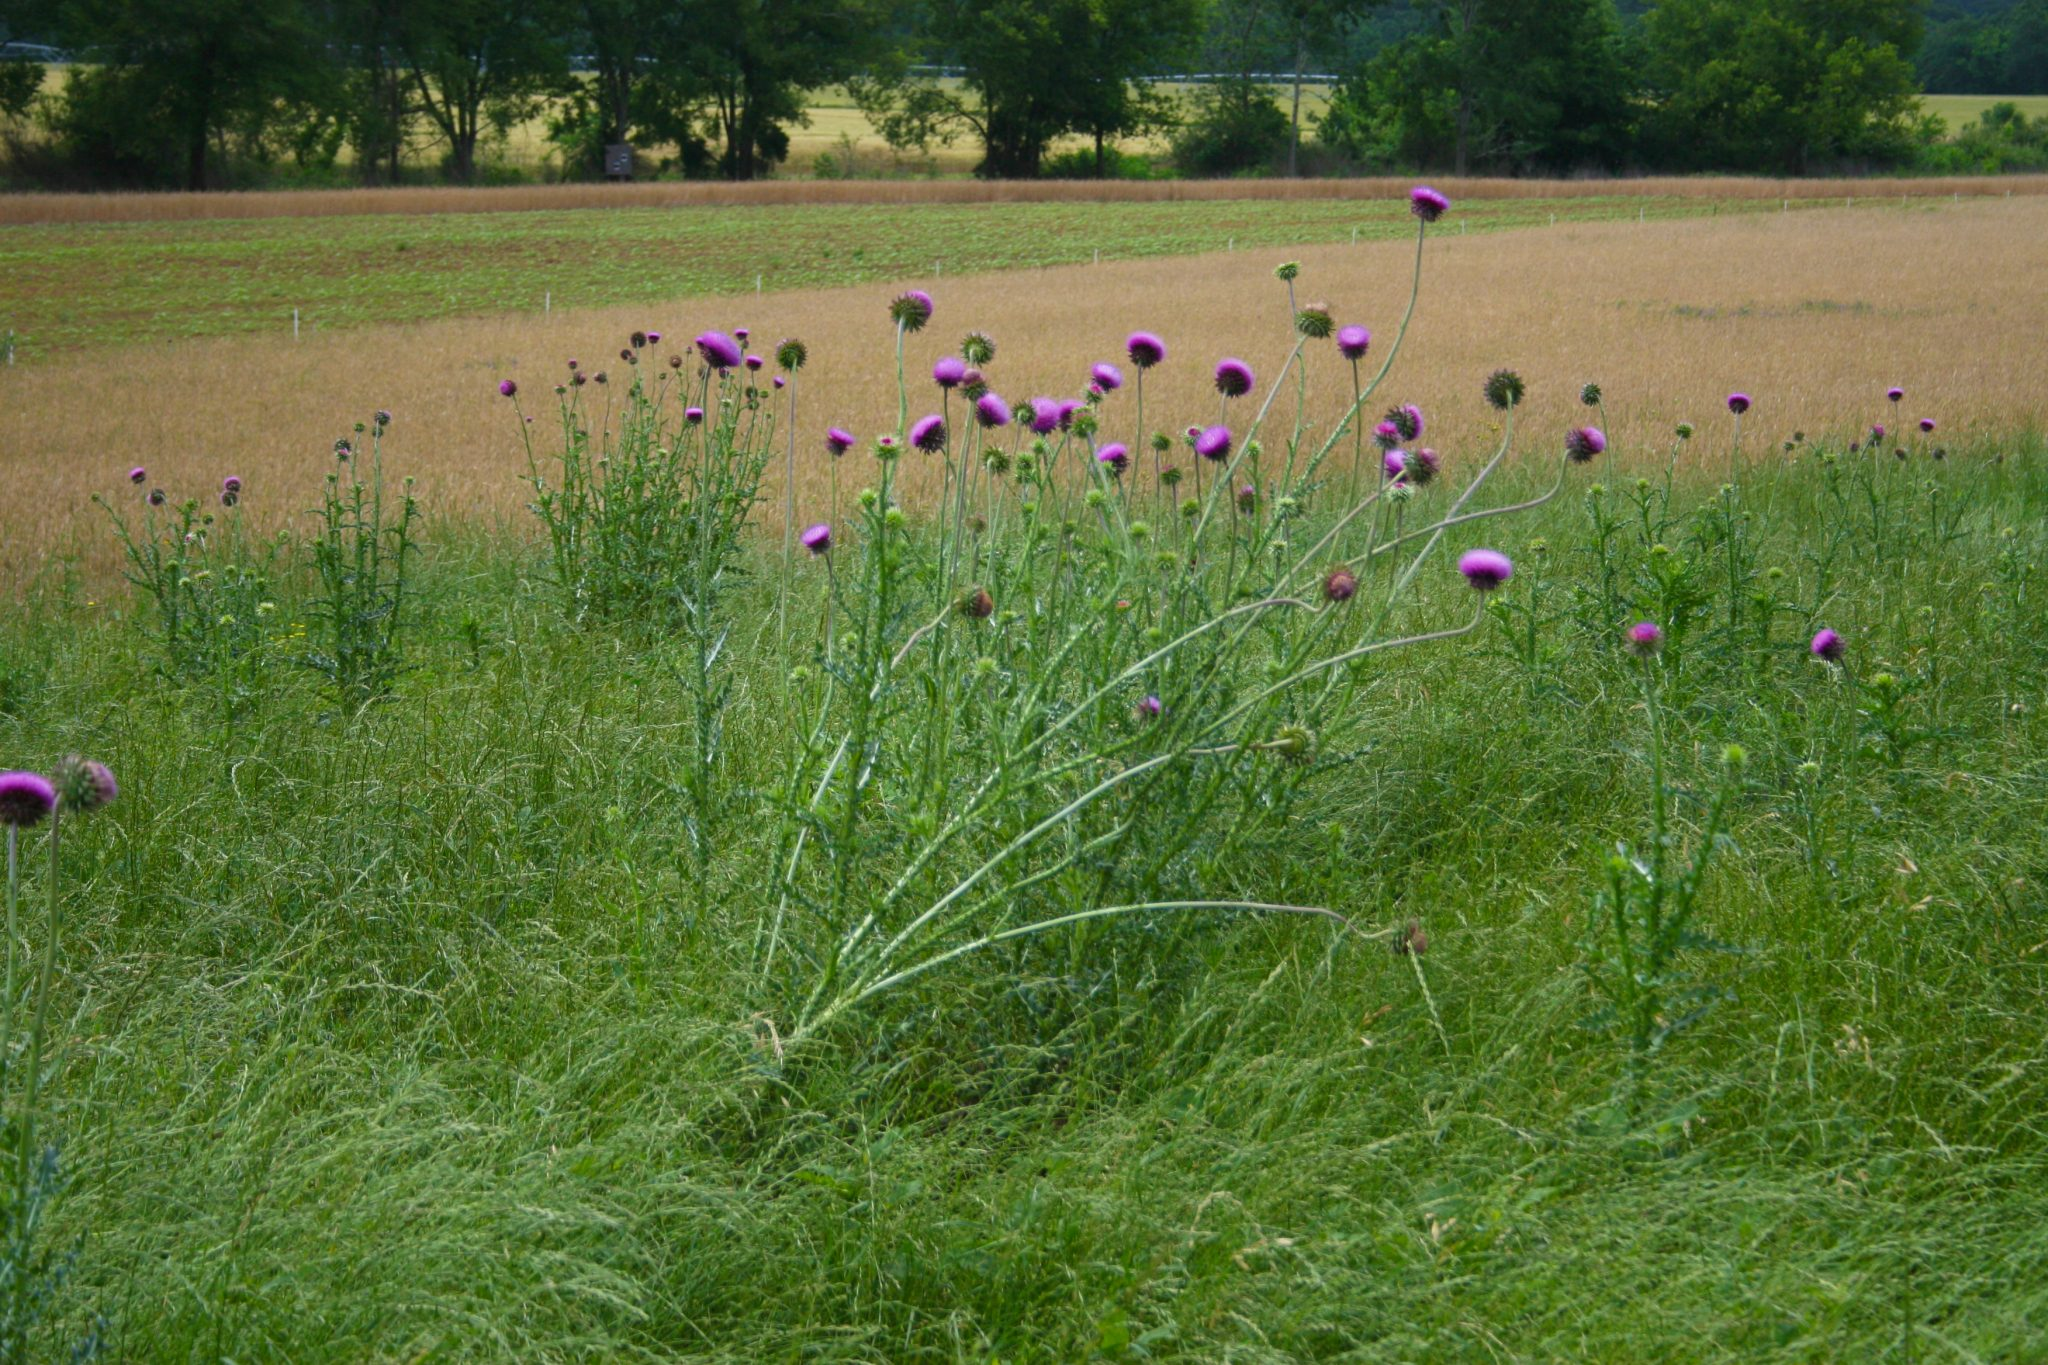thistle: (47, 754, 122, 821), (885, 283, 946, 340), (1479, 360, 1535, 419), (684, 326, 738, 387), (1555, 417, 1616, 472), (1453, 541, 1512, 594), (6, 769, 49, 833), (1115, 335, 1172, 379), (1399, 184, 1453, 230), (1331, 323, 1384, 367), (1619, 620, 1667, 667), (1206, 363, 1258, 407), (1186, 422, 1230, 472), (898, 414, 952, 456), (815, 425, 859, 472), (793, 516, 834, 567), (1322, 564, 1361, 609), (971, 396, 1019, 434), (1384, 404, 1434, 437), (1812, 622, 1845, 670), (1718, 392, 1759, 431), (932, 350, 965, 398), (675, 407, 713, 436), (493, 375, 527, 407), (1372, 424, 1398, 462), (1859, 416, 1887, 451), (1887, 382, 1911, 408)
